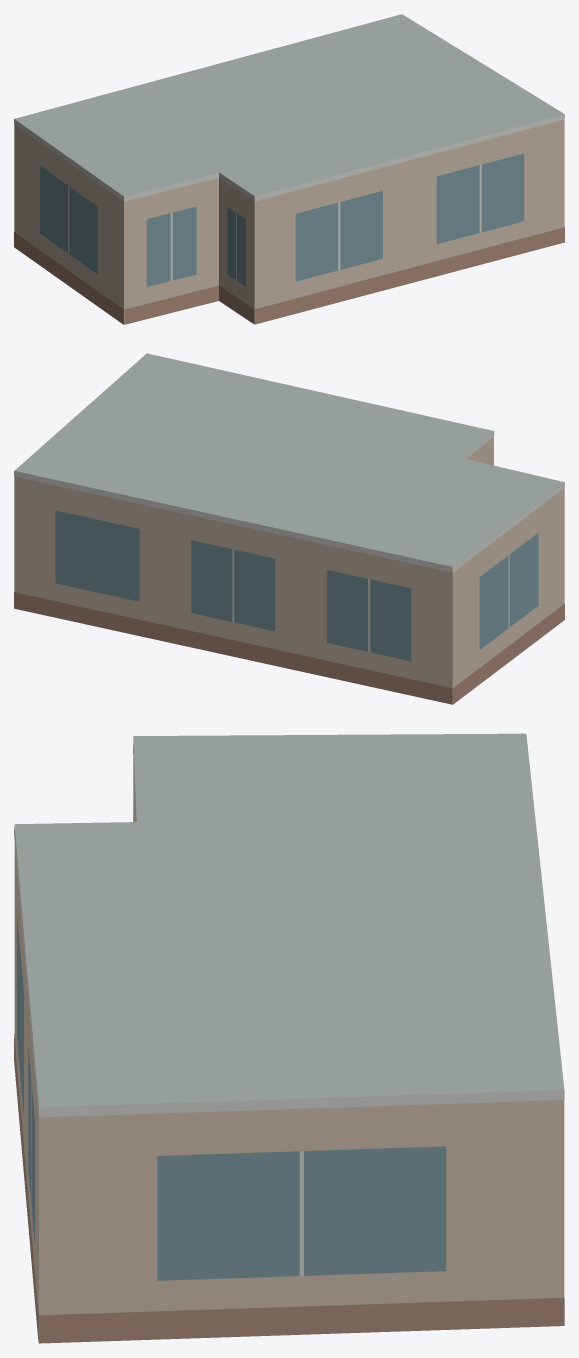
Rendered from survey-upis-32916546.glb.
3 views of the same model, one above another, from view 1: azimuth 30°, elevation 25°; view 2: azimuth 150°, elevation 25°; view 3: azimuth 270°, elevation 25° (orthographic). The views are drawn at different scales.
Visible parts, largest first — view 1: survey-upis-32916546.tmp; view 2: survey-upis-32916546.tmp; view 3: survey-upis-32916546.tmp.
Part boxes in pixels (x1=…): survey-upis-32916546.tmp: x1=14, y1=14, x2=564, y2=324; survey-upis-32916546.tmp: x1=14, y1=353, x2=564, y2=704; survey-upis-32916546.tmp: x1=14, y1=733, x2=564, y2=1343.
Bounding box in the file's own units: 10.41 × 3.05 × 6.47.
